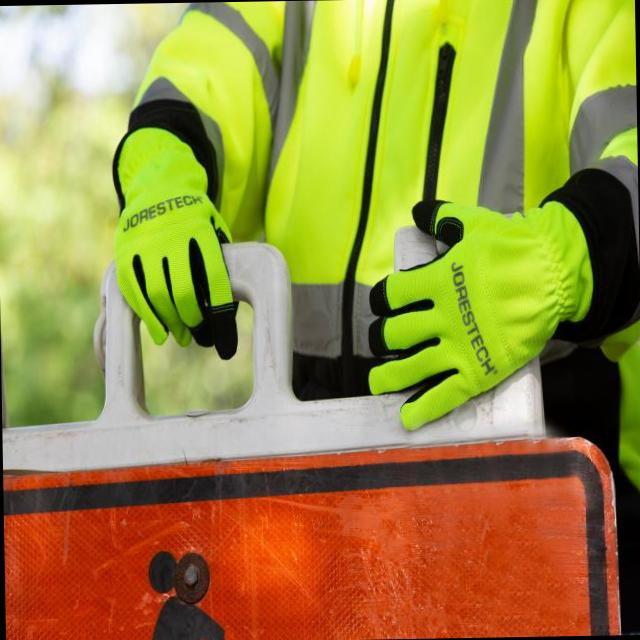Gloves: (358, 181, 616, 432), (98, 128, 256, 354)
